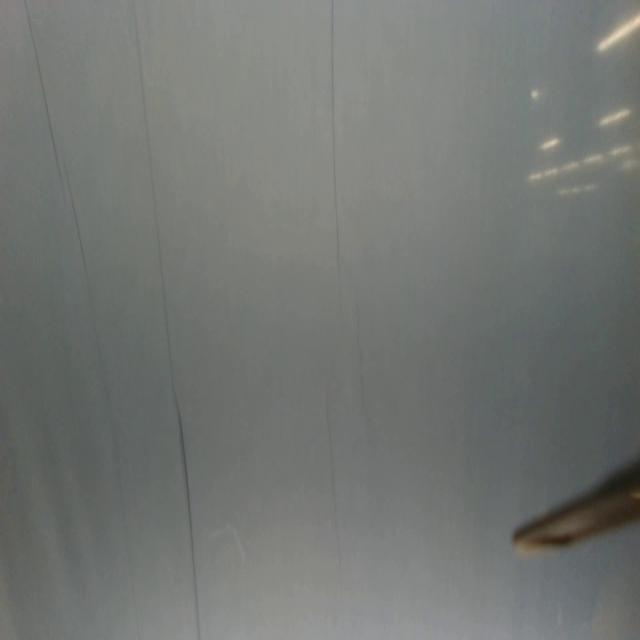crease: (129, 0, 203, 636), (20, 0, 69, 209), (325, 0, 349, 328), (324, 389, 342, 546), (354, 296, 372, 438), (68, 184, 91, 293)
